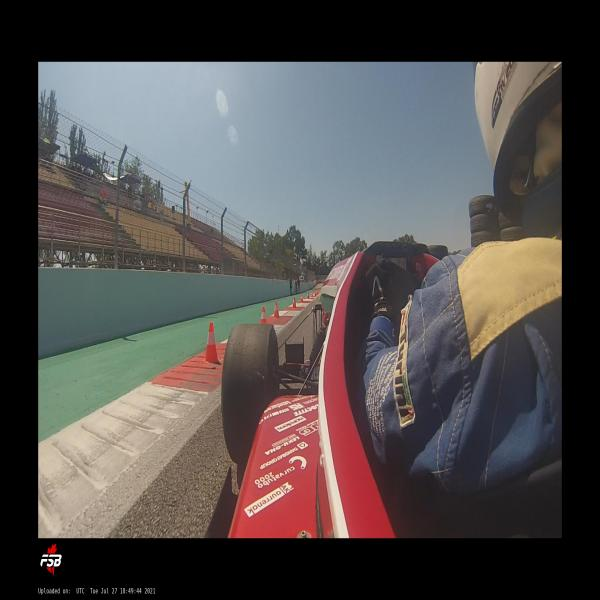orange_cone: (202, 322, 222, 363), (260, 306, 268, 324), (273, 301, 280, 319), (292, 296, 297, 310), (299, 294, 303, 302), (307, 291, 310, 298), (311, 291, 313, 297)
